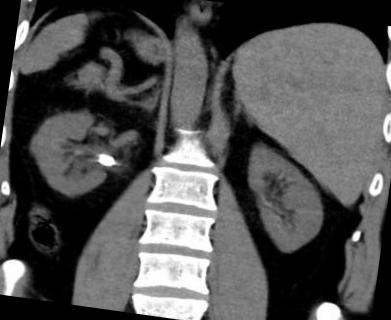Tas_Var: (92, 150, 116, 170)
